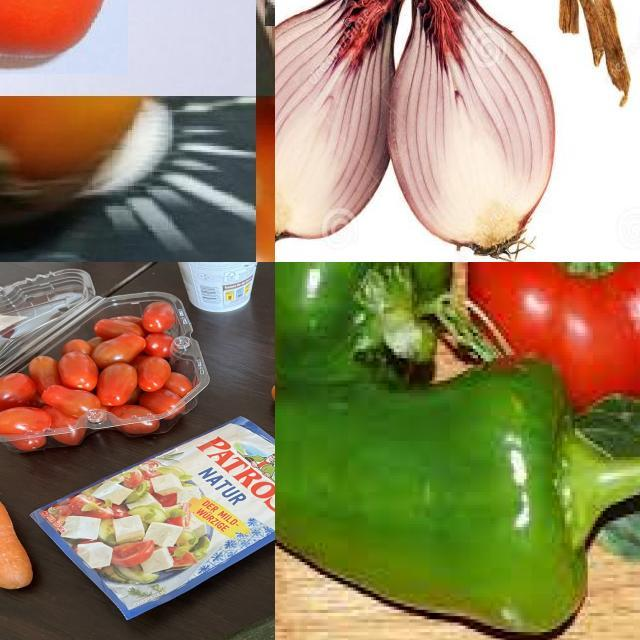bell_pepper: (276, 263, 464, 417)
carrot: (1, 430, 56, 605)
onion: (394, 1, 557, 260), (276, 1, 393, 252)
tomato: (1, 292, 221, 438), (1, 97, 170, 243)
zucchini: (52, 542, 276, 640)
